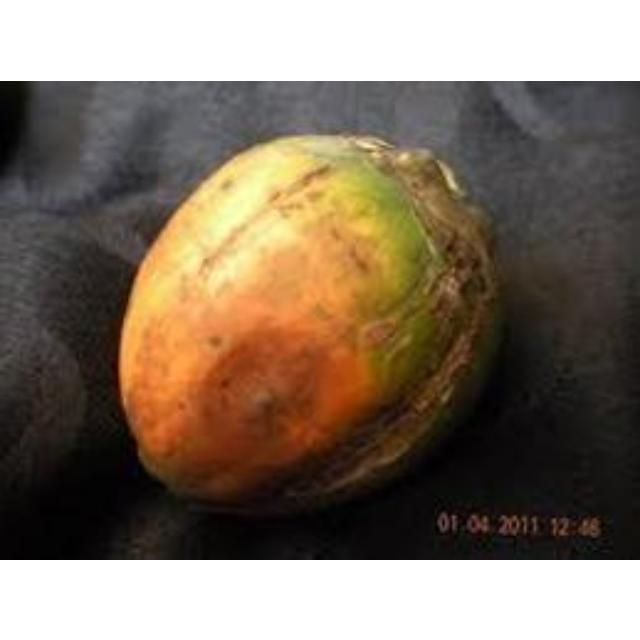damaged: (116, 134, 509, 520)
